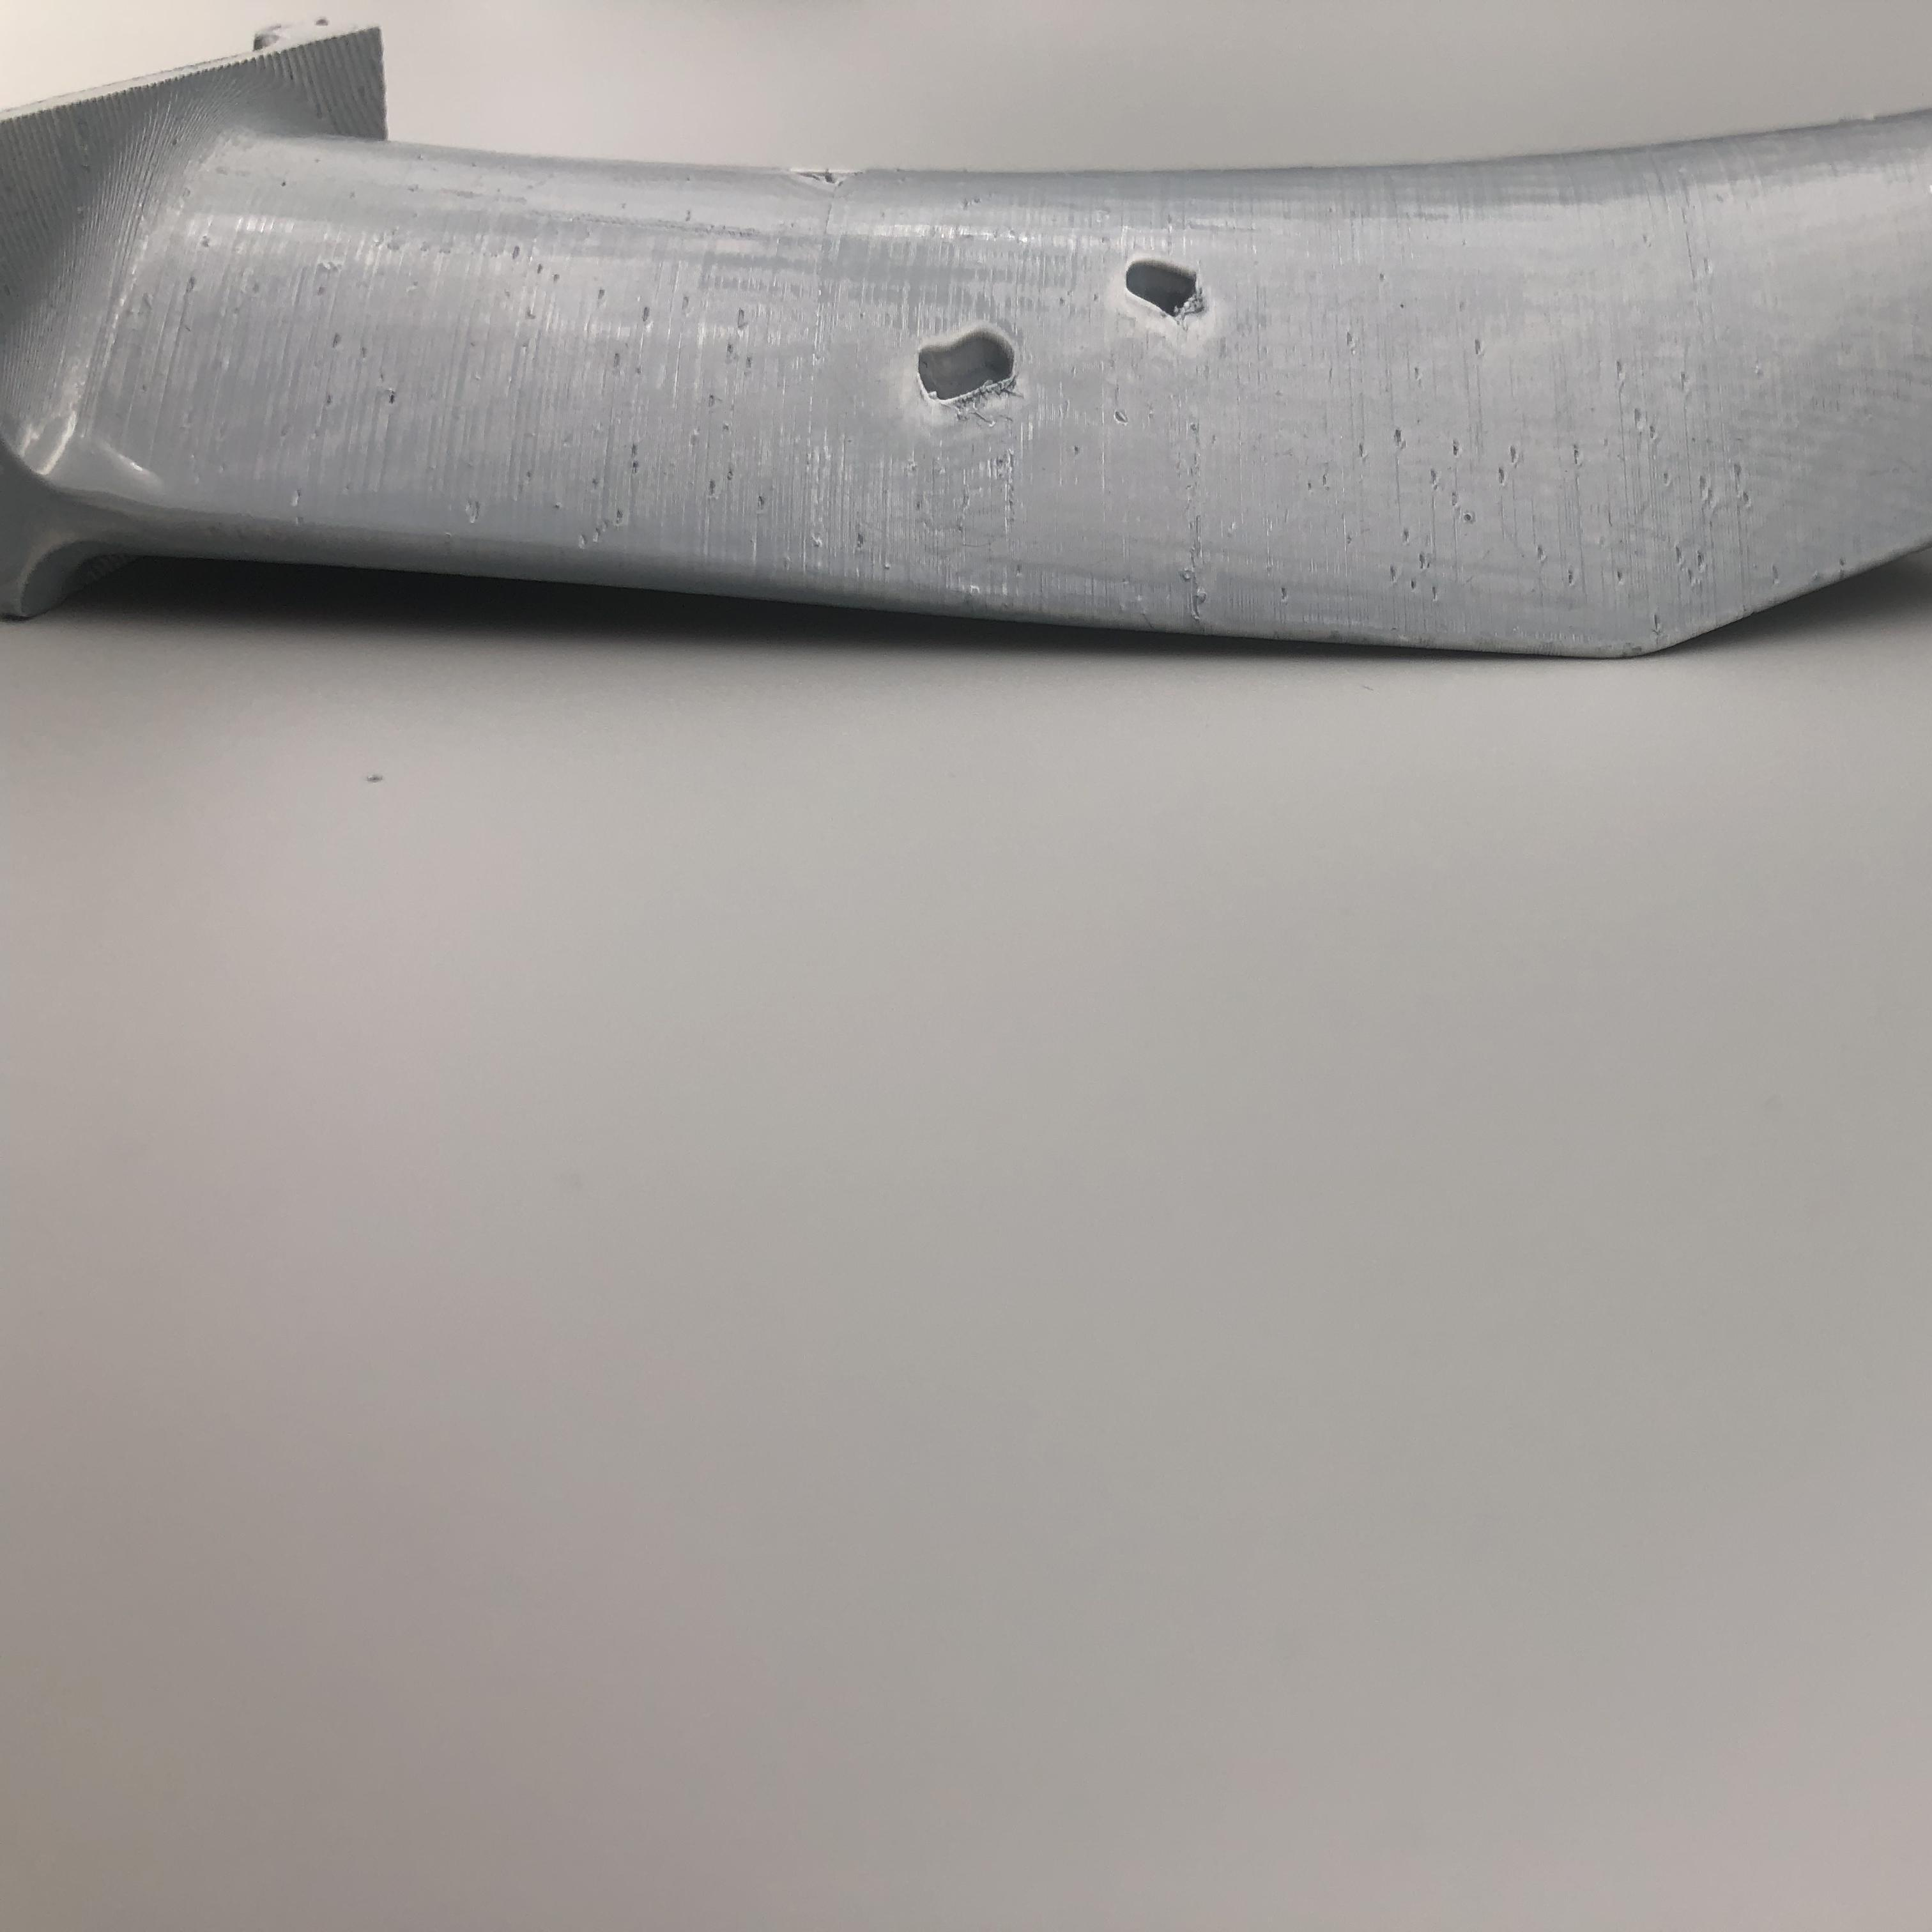breakdown: (920, 242, 1251, 426), (771, 163, 888, 209)
